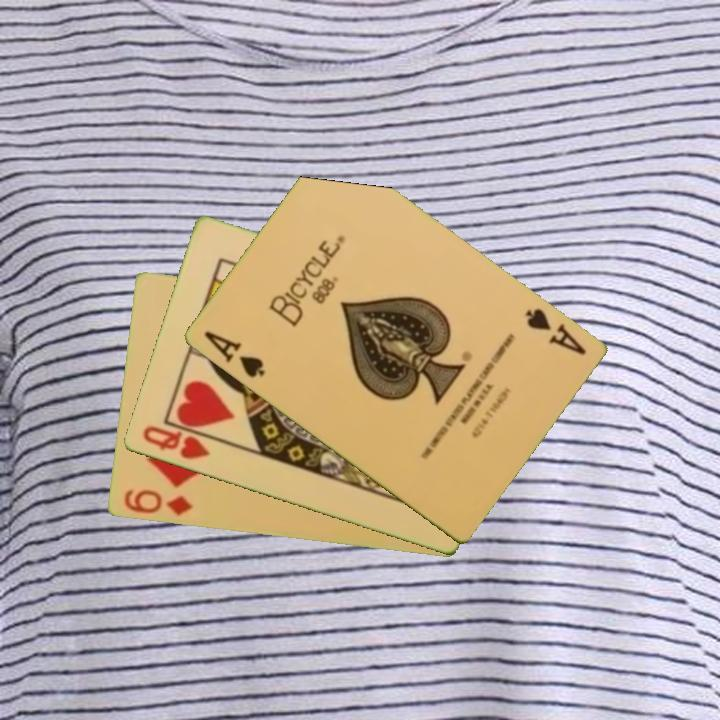6d: (120, 486, 195, 519)
As: (200, 327, 268, 381), (521, 305, 589, 358)
Qh: (138, 422, 213, 463)
